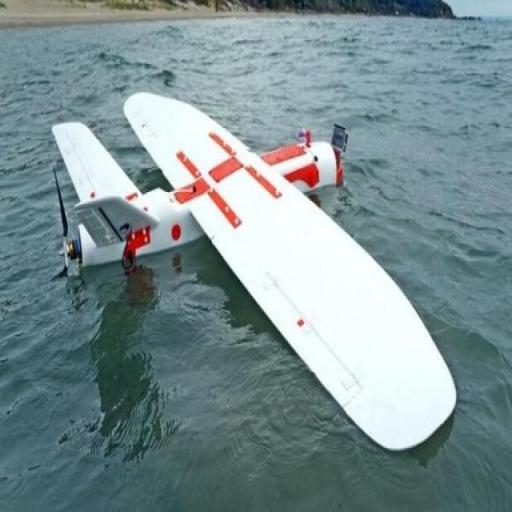uav: (56, 86, 462, 460)
